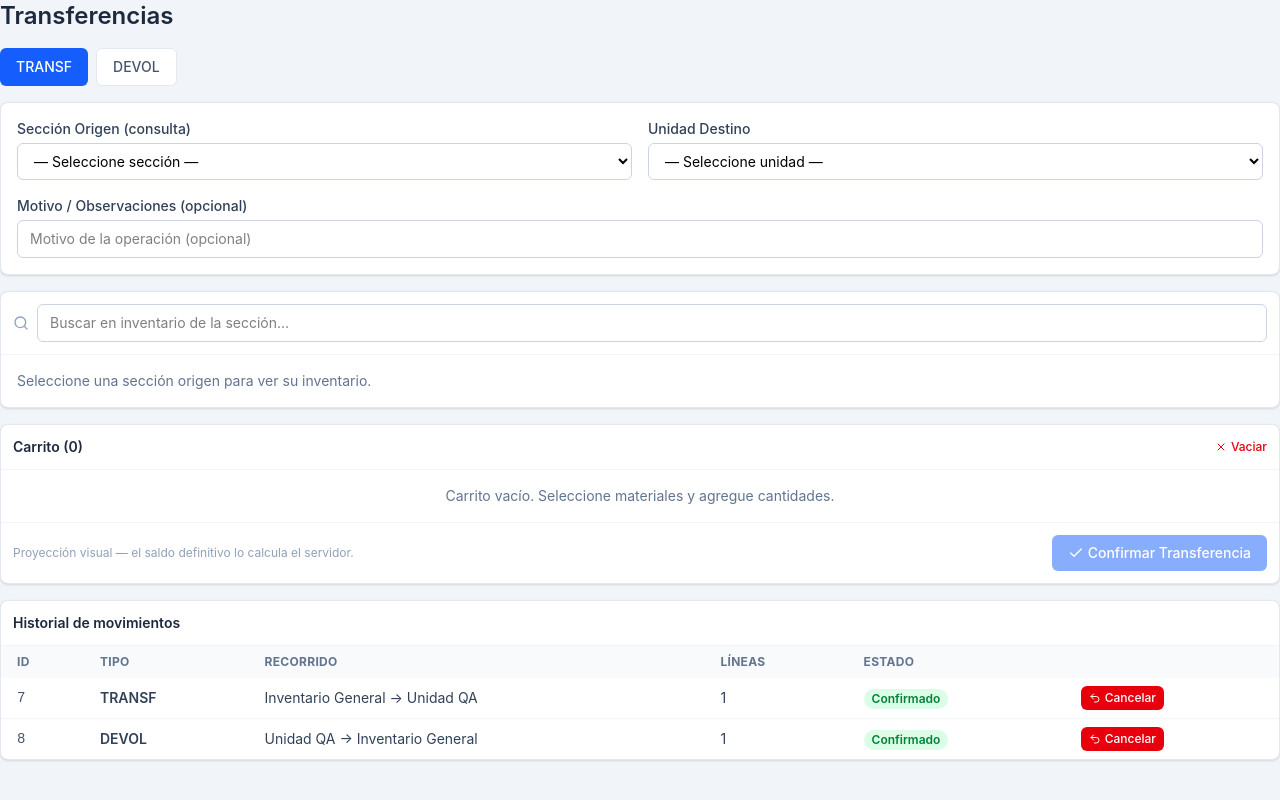
Test: Historial y modal › RF-4 REQ-NOM-004: el modal de cancelación nombra la operación como TRANSF
The width and height of the screenshot is (1280, 800).
Click the button "Cancelar" in the row of "Inventario General → Unidad QA".
click(1122, 698)  # box [1081,686,1164,710]
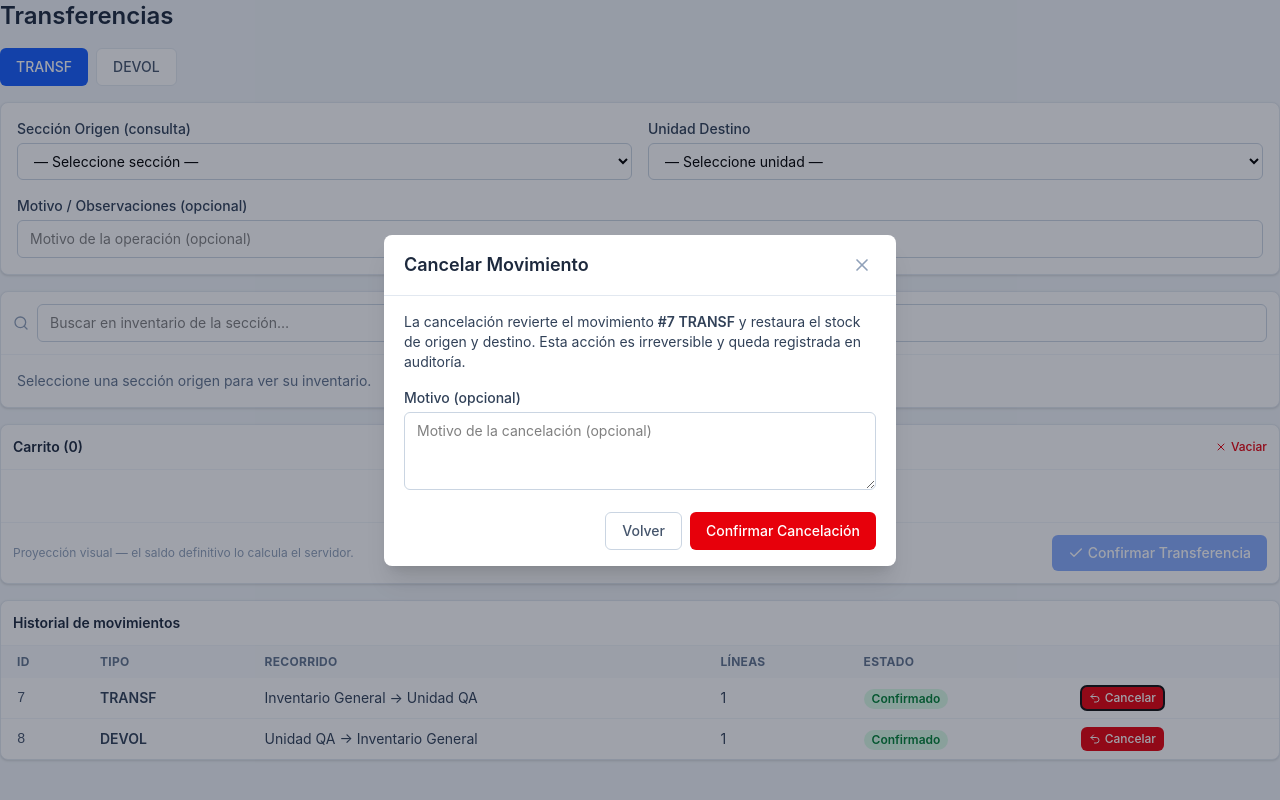
expect the text "#7 TRANSF" is shown: met, box [658,312,735,330]
